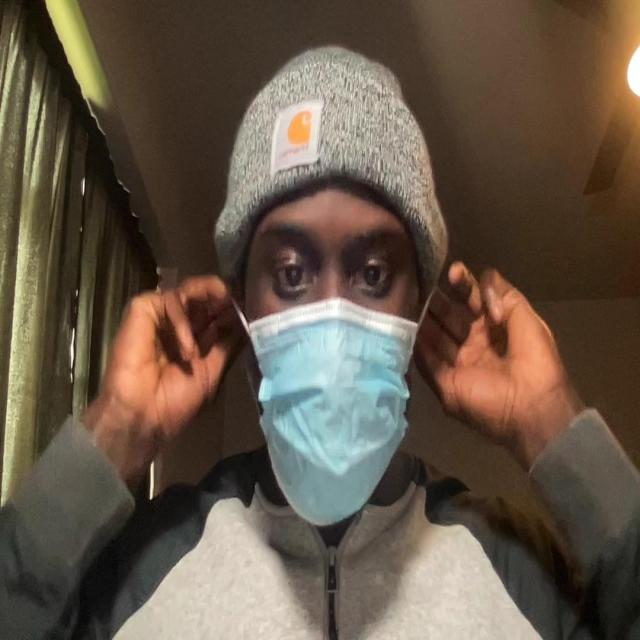face: (231, 152, 430, 525)
